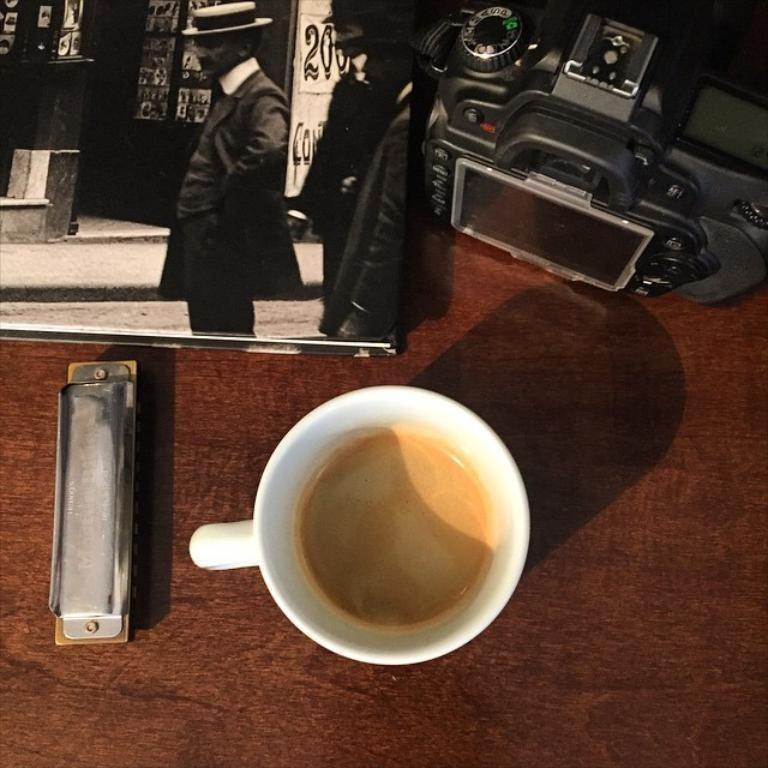cup-handle: (190, 382, 536, 670)
